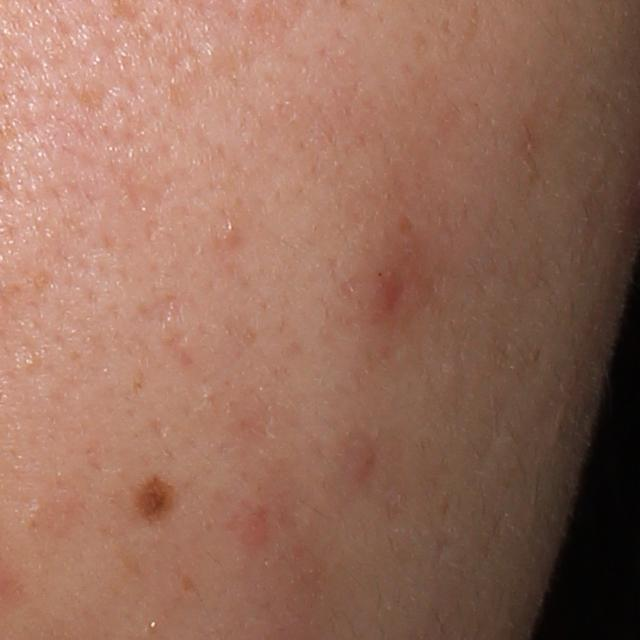atrophic_scar: (123, 155, 170, 228), (55, 74, 131, 117), (140, 293, 186, 341)
comedo: (221, 223, 242, 247)
nevus: (132, 472, 182, 519)
